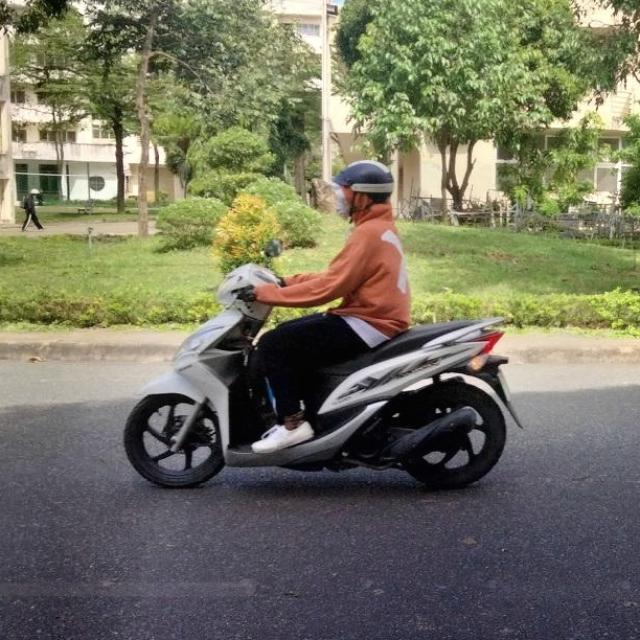Helmet: (326, 154, 398, 222)
